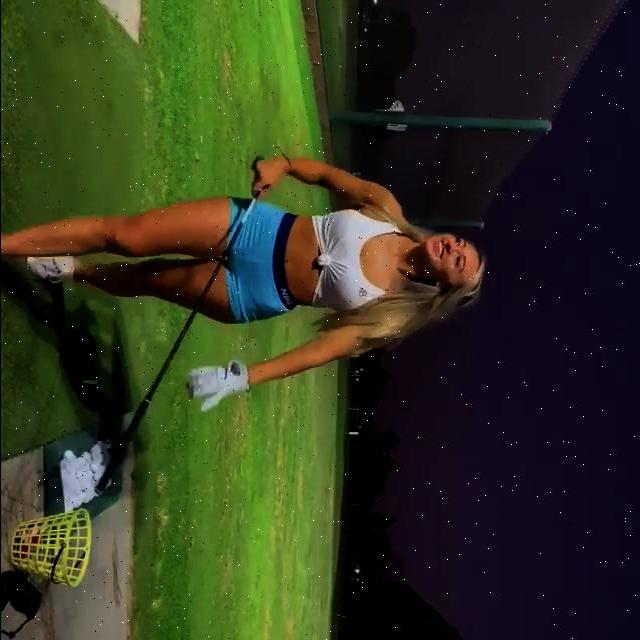ClubHandle: (94, 154, 270, 492)
GolfBall: (63, 451, 73, 461), (62, 479, 69, 491), (67, 463, 74, 474), (73, 484, 80, 495), (59, 462, 67, 471), (93, 441, 101, 450), (75, 466, 83, 475), (89, 448, 96, 458), (67, 474, 74, 484), (74, 497, 81, 507), (65, 503, 72, 513), (75, 457, 82, 466), (105, 438, 112, 447), (92, 474, 98, 484), (61, 473, 68, 481), (81, 452, 88, 460), (91, 458, 98, 466), (64, 493, 70, 502), (76, 476, 84, 482), (82, 484, 88, 492), (97, 452, 103, 459), (99, 467, 105, 474), (87, 494, 93, 501), (82, 494, 88, 501), (85, 464, 90, 472), (105, 455, 110, 462), (85, 474, 89, 480), (90, 486, 94, 492)
